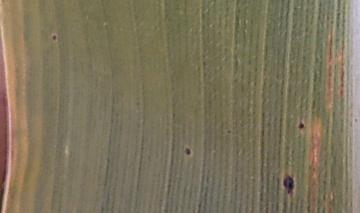tarspot: (282, 174, 295, 196), (296, 118, 305, 130), (183, 146, 192, 157), (352, 116, 360, 124), (225, 128, 233, 136), (50, 33, 57, 42)
